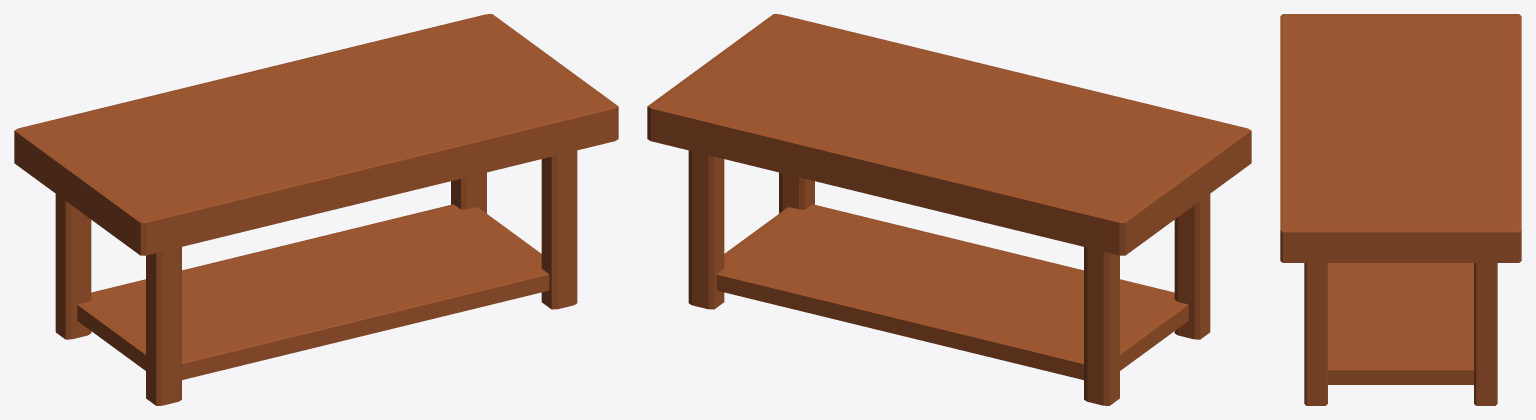
File: CoffeeTable.fbx
3 renders of one model, left to right at view 1: azimuth 30°, elevation 25°; view 2: azimuth 150°, elevation 25°; view 3: azimuth 270°, elevation 25°, orthographic. The views are drawn at different scales.
Parts seen in each view (by area): view 1: Table; view 2: Table; view 3: Table.
Part boxes in pixels (<box>): Table: <box>14,14,618,405</box>; Table: <box>647,14,1251,405</box>; Table: <box>1280,14,1521,405</box>.
Size of the model in its own units: 300 by 120 by 140.
